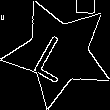L_NE: (33, 23, 84, 82)
